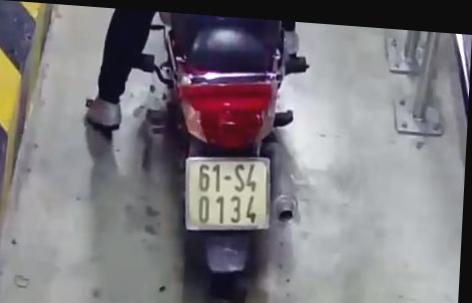License_Plate: (169, 148, 283, 243)
